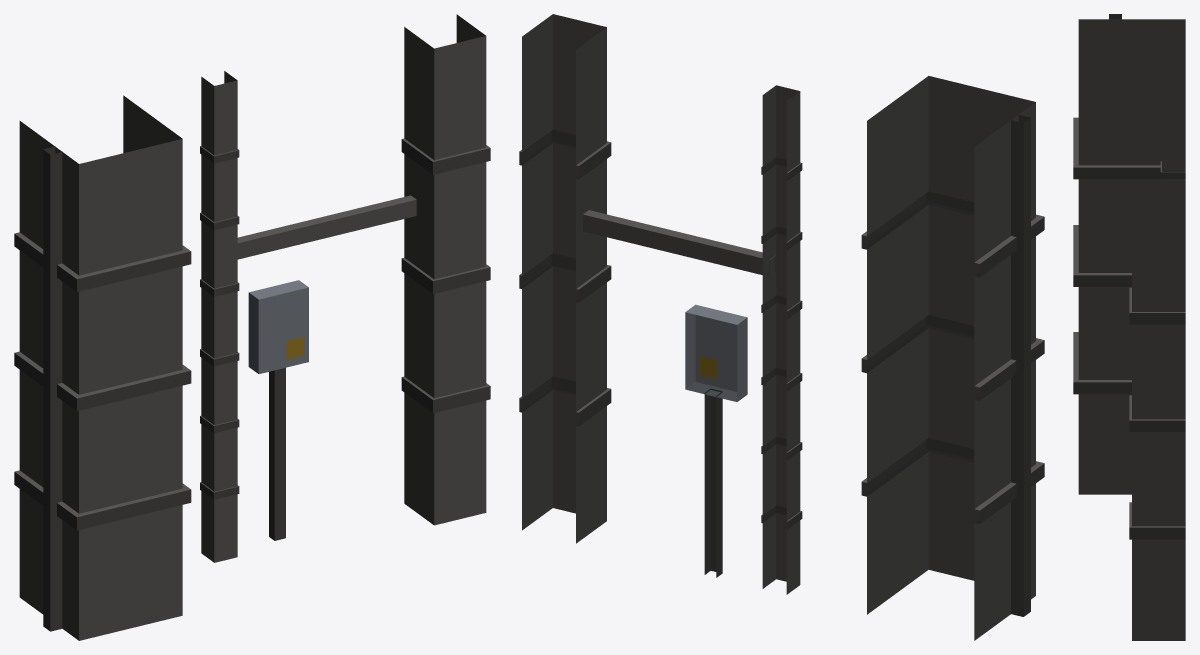
File: AI_Env_Sewer_Pipes.fbx
3 views of the same model, side by side, from view 1: azimuth 30°, elevation 25°; view 2: azimuth 150°, elevation 25°; view 3: azimuth 270°, elevation 25° (orthographic). The views are drawn at different scales.
Parts seen in each view (by area): view 1: AI_Env_Sewer_Pipes; view 2: AI_Env_Sewer_Pipes; view 3: AI_Env_Sewer_Pipes.
Part boxes in pixels (<box>): AI_Env_Sewer_Pipes: <box>14,14,490,640</box>; AI_Env_Sewer_Pipes: <box>519,14,1044,640</box>; AI_Env_Sewer_Pipes: <box>1073,14,1185,640</box>.
Size of the model in its own units: 4.36 by 4.4 by 1.04.
